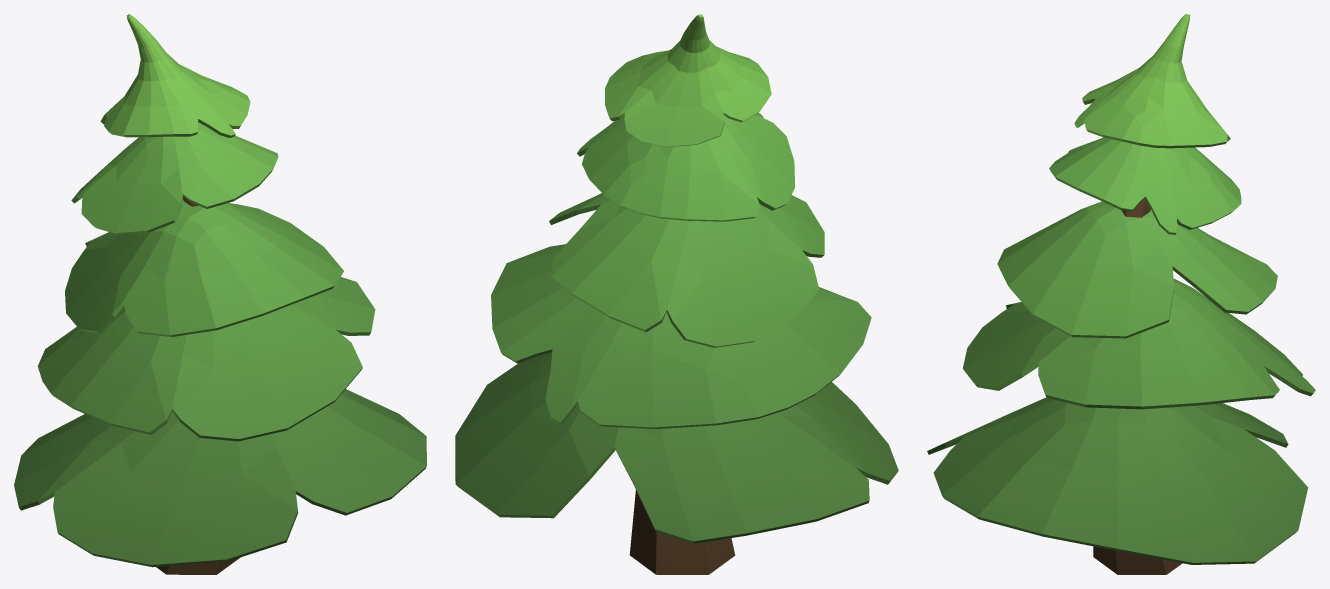
Rendered from PineTree1.fbx.
3 renders of one model, left to right at view 1: azimuth 30°, elevation 25°; view 2: azimuth 150°, elevation 25°; view 3: azimuth 270°, elevation 25°, orthographic. The views are drawn at different scales.
Visible parts, largest first — view 1: PineTree_1_Cylinder.018; view 2: PineTree_1_Cylinder.018; view 3: PineTree_1_Cylinder.018.
Part boxes in pixels (<box>): PineTree_1_Cylinder.018: <box>14,14,426,574</box>; PineTree_1_Cylinder.018: <box>455,14,898,574</box>; PineTree_1_Cylinder.018: <box>927,14,1315,574</box>.
Size of the model in its own units: 196 by 270 by 182.
